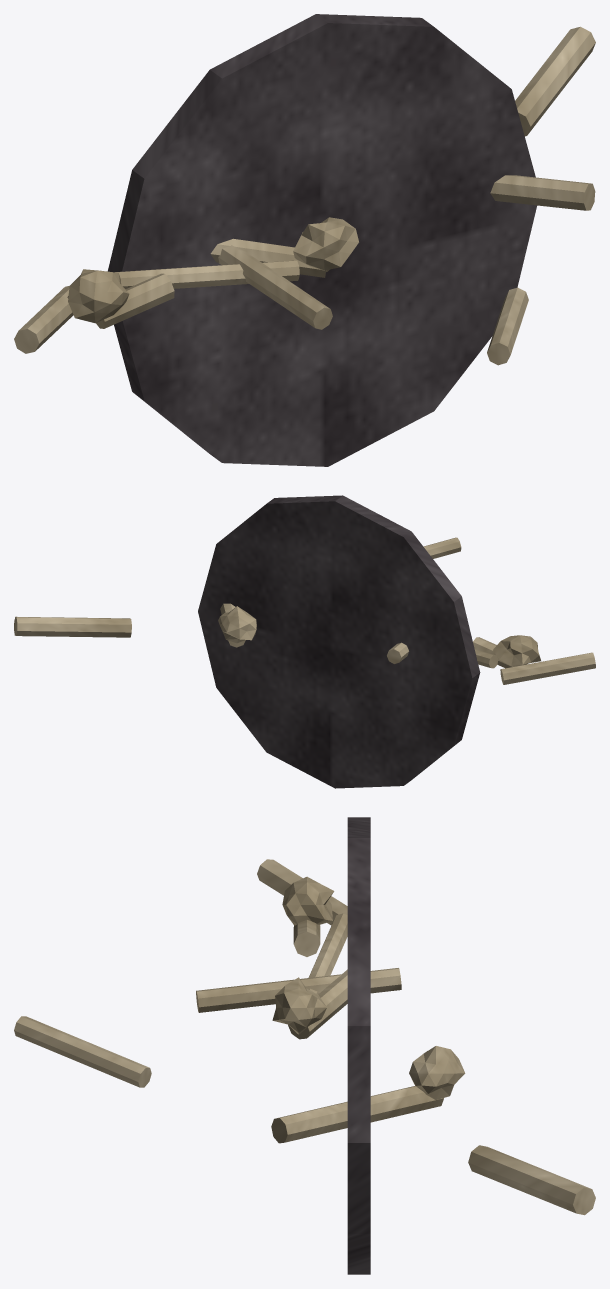
The model's file is 0229_bone_heap_04.glb.
3 renders of one model, top to bottom at view 1: azimuth 30°, elevation 25°; view 2: azimuth 150°, elevation 25°; view 3: azimuth 270°, elevation 25°, orthographic. The views are drawn at different scales.
Parts seen in each view (by area): view 1: ash, bone; view 2: ash, bone; view 3: bone, ash.
Boxes of the visible parts, x1,y1,x2,y2 form: ash: (107, 14, 537, 466); bone: (14, 26, 595, 365); ash: (198, 495, 480, 788); bone: (14, 537, 595, 684); bone: (14, 859, 595, 1215); ash: (347, 817, 370, 1274).
Size of the model in its own units: 2.79 by 1.6 by 2.03.
Materials: 2 (2 with a texture image).
